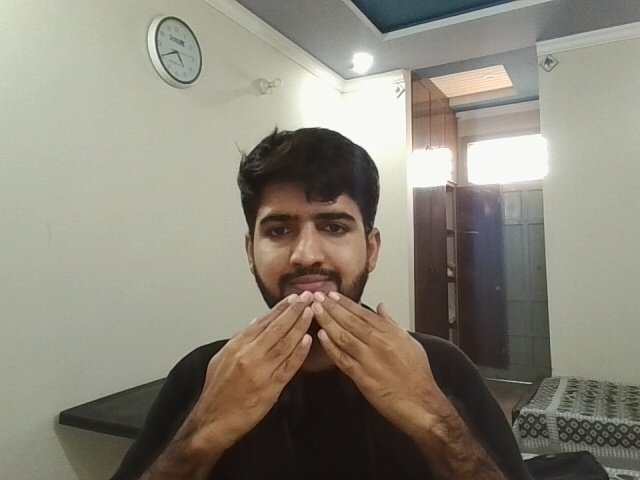Thanks: (116, 285, 542, 449)
